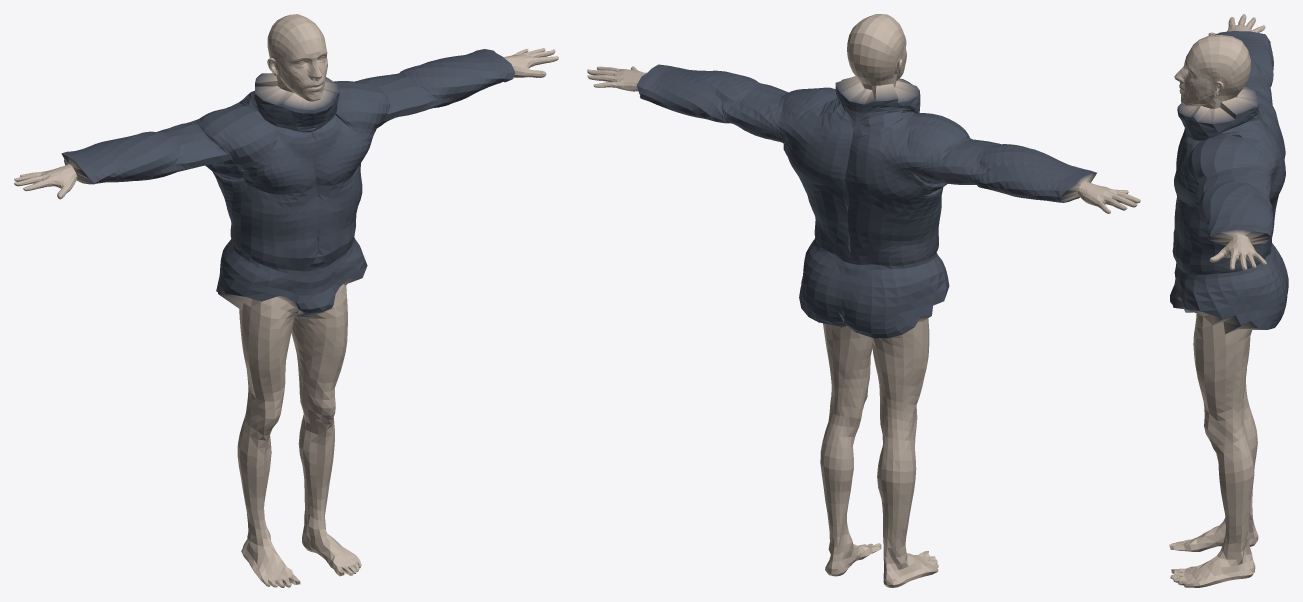
Rendered from test_oversized.glb.
The picture shows the model from 3 angles, left to right: view 1: azimuth 30°, elevation 25°; view 2: azimuth 150°, elevation 25°; view 3: azimuth 270°, elevation 25°; orthographic projection. The views are drawn at different scales.
Visible parts, largest first — view 1: world; view 2: world; view 3: world.
Boxes of the visible parts, x1,y1,x2,y2 form: world: (14,14,558,587); world: (587,14,1140,587); world: (1169,14,1288,587).
Size of the model in its own units: 1.86 by 1.8 by 0.368.
